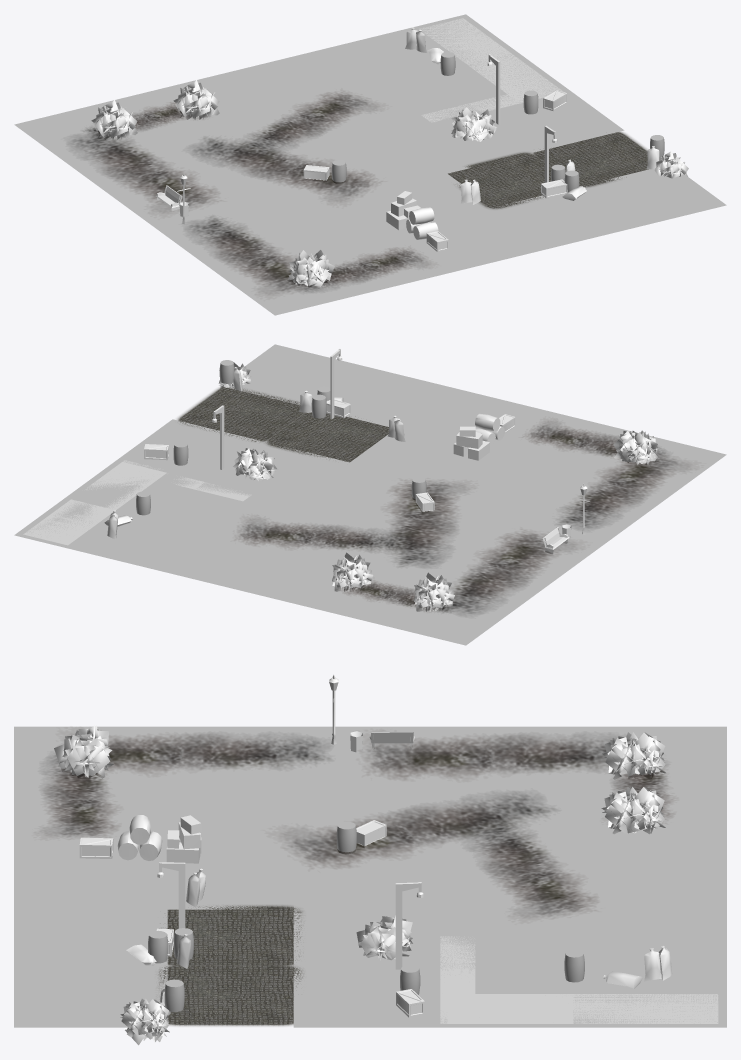
Rendered from propsonly_malt5-corner2.gltf.
The picture shows the model from 3 angles, top to bottom: view 1: azimuth 30°, elevation 25°; view 2: azimuth 150°, elevation 25°; view 3: azimuth 270°, elevation 25°; orthographic projection. The views are drawn at different scales.
Parts seen in each view (by area): view 1: file_b2_ground1.138, file_b2_ground1.130, file_industrial_thin_mid.005, file_industrial_thin_mid.003, file_b2_ground3.041, file_b2_ground1.132, file_b2_ground3.053, file_b2_ground1.133, file_ground.001, file_b2_ground4.015, file_b2_ground1.134, file_b2_ground1.137 (+28 smaller); view 2: file_b2_ground1.133, file_b2_ground1.130, file_b2_ground3.041, file_b2_ground1.137, file_b2_ground3.053, file_industrial_thin_mid.004, file_b2_ground1.139, file_industrial_thin_mid.003, file_b2_ground1.131, file_b2_ground4.015, file_b1_ground.009, file_b2_ground1.132 (+27 smaller); view 3: file_b2_ground1.138, file_b2_ground1.131, file_b2_ground3.053, file_b2_ground3.041, file_industrial_thin_mid.005, file_b2_ground1.139, file_b2_ground1.133, file_b2_ground1.132, file_b2_ground1.137, file_b2_ground4.015, FeedbackBlocker.064, file_industrial_thin_mid.003 (+36 smaller).
Boxes of the visible parts, box(x1,y1,x2,y2) form: file_b2_ground1.138: box(159, 119, 301, 181); file_b2_ground1.130: box(307, 230, 460, 291); file_industrial_thin_mid.005: box(584, 169, 726, 228); file_industrial_thin_mid.003: box(485, 186, 628, 250); file_b2_ground3.041: box(332, 73, 481, 134); file_b2_ground1.132: box(116, 178, 269, 240); file_b2_ground3.053: box(280, 36, 426, 96); file_b2_ground1.133: box(171, 215, 315, 277); file_ground.001: box(396, 208, 548, 271); file_b2_ground4.015: box(474, 89, 624, 153); file_b2_ground1.134: box(243, 95, 381, 153); file_b2_ground1.137: box(200, 58, 337, 120); file_b2_ground1.133: box(522, 472, 675, 533); file_b2_ground1.130: box(493, 409, 632, 473); file_b2_ground3.041: box(154, 482, 307, 543); file_b2_ground1.137: box(200, 539, 330, 602); file_b2_ground3.053: box(112, 516, 245, 580); file_industrial_thin_mid.004: box(303, 463, 436, 527); file_b2_ground1.139: box(437, 547, 572, 607); file_industrial_thin_mid.003: box(334, 366, 458, 430); file_b2_ground1.131: box(391, 484, 526, 546); file_b2_ground4.015: box(116, 419, 268, 482); file_b1_ground.009: box(345, 426, 497, 485); file_b2_ground1.132: box(471, 509, 623, 566); file_b2_ground1.138: box(433, 785, 587, 850); file_b2_ground1.131: box(293, 785, 447, 850); file_b2_ground3.053: box(573, 903, 726, 968); file_b2_ground3.041: box(433, 903, 587, 968); file_industrial_thin_mid.005: box(14, 963, 167, 1027); file_b2_ground1.139: box(433, 726, 586, 791); file_b2_ground1.133: box(153, 726, 307, 791); file_b2_ground1.132: box(293, 726, 447, 791); file_b2_ground1.137: box(573, 847, 726, 909); file_b2_ground4.015: box(293, 963, 447, 1027); FeedbackBlocker.064: box(440, 994, 718, 1023); file_industrial_thin_mid.003: box(14, 903, 167, 968).
Size of what is drawn, in the model's own units: 5.24 by 0.8508 by 5.1.
